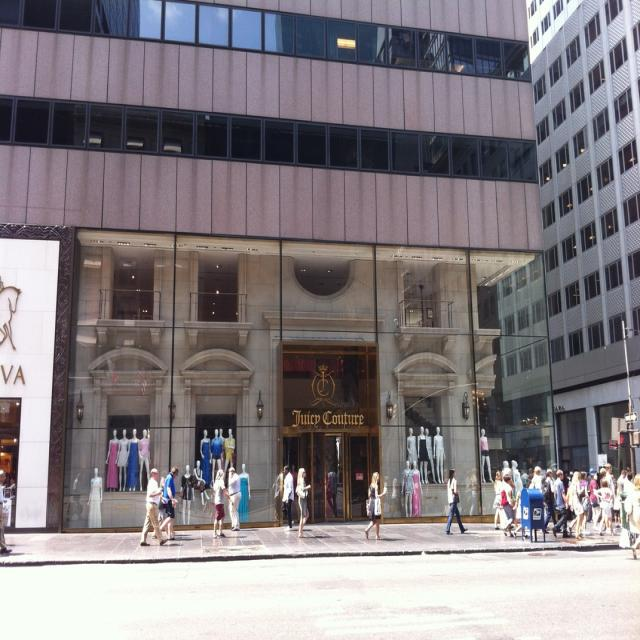body: (138, 466, 168, 546), (180, 459, 210, 529), (444, 466, 470, 536), (211, 467, 235, 540), (364, 471, 388, 541), (159, 464, 180, 542), (593, 477, 615, 541), (626, 472, 640, 561), (324, 457, 342, 524), (66, 470, 86, 530), (0, 468, 13, 558), (512, 476, 530, 540), (570, 470, 586, 540), (296, 466, 311, 538), (552, 468, 567, 539), (542, 467, 558, 533), (578, 470, 594, 535), (280, 465, 295, 532), (499, 472, 514, 538), (534, 533, 616, 545), (597, 466, 611, 533), (464, 466, 483, 515), (383, 471, 402, 518), (228, 466, 241, 532), (164, 528, 202, 550), (268, 461, 281, 523), (157, 475, 169, 539), (616, 469, 629, 528), (492, 470, 504, 531), (587, 473, 599, 533), (289, 521, 325, 540), (604, 462, 616, 518), (500, 458, 532, 478), (228, 524, 258, 542), (7, 468, 16, 526), (7, 540, 34, 558), (612, 486, 623, 528), (531, 465, 543, 492), (382, 534, 405, 546), (623, 472, 635, 490), (463, 526, 478, 538), (586, 467, 594, 483), (564, 470, 573, 484), (290, 462, 297, 476)
